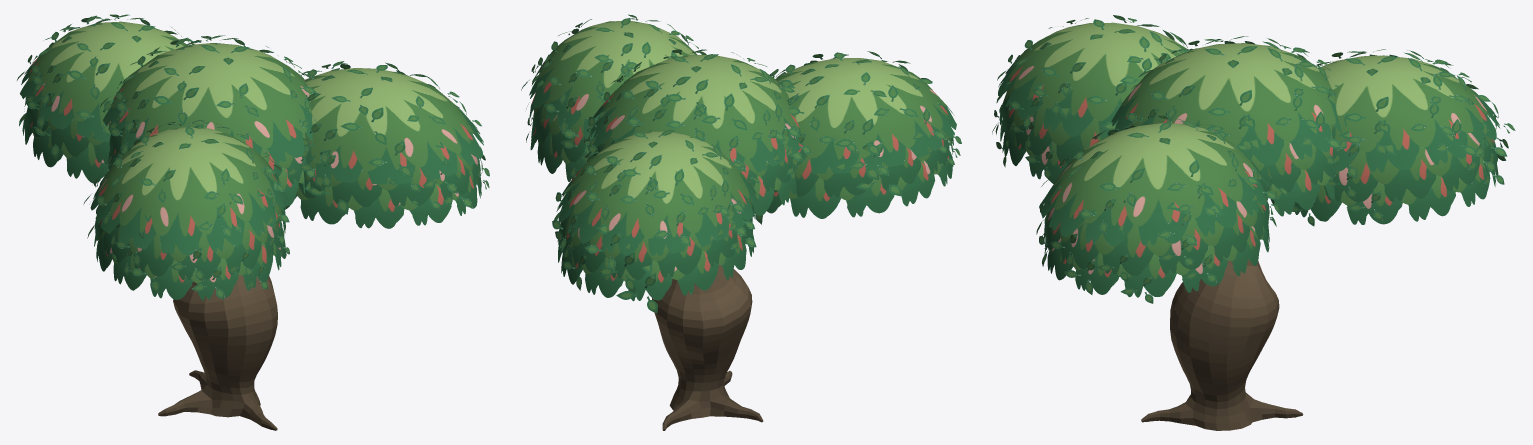
Rendered from FatThreeNormal.fbx.
The picture shows the model from 3 angles, left to right: view 1: azimuth 30°, elevation 25°; view 2: azimuth 150°, elevation 25°; view 3: azimuth 270°, elevation 25°; orthographic projection. The views are drawn at different scales.
Parts seen in each view (by area): view 1: FattenThreeNormal; view 2: FattenThreeNormal; view 3: FattenThreeNormal.
Boxes of the visible parts, x1,y1,x2,y2 form: FattenThreeNormal: [17, 14, 489, 430]; FattenThreeNormal: [521, 14, 961, 430]; FattenThreeNormal: [992, 15, 1515, 430].
Size of the model in its own units: 2118 by 1816 by 2371.
